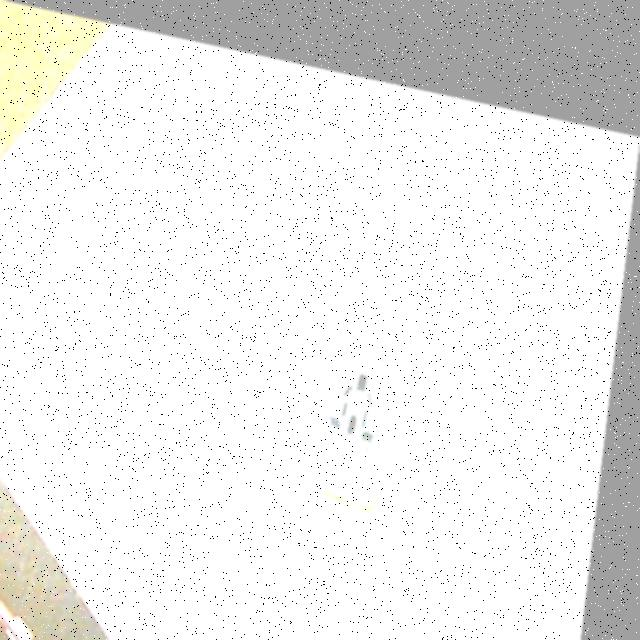adapter: (305, 328, 414, 492)
